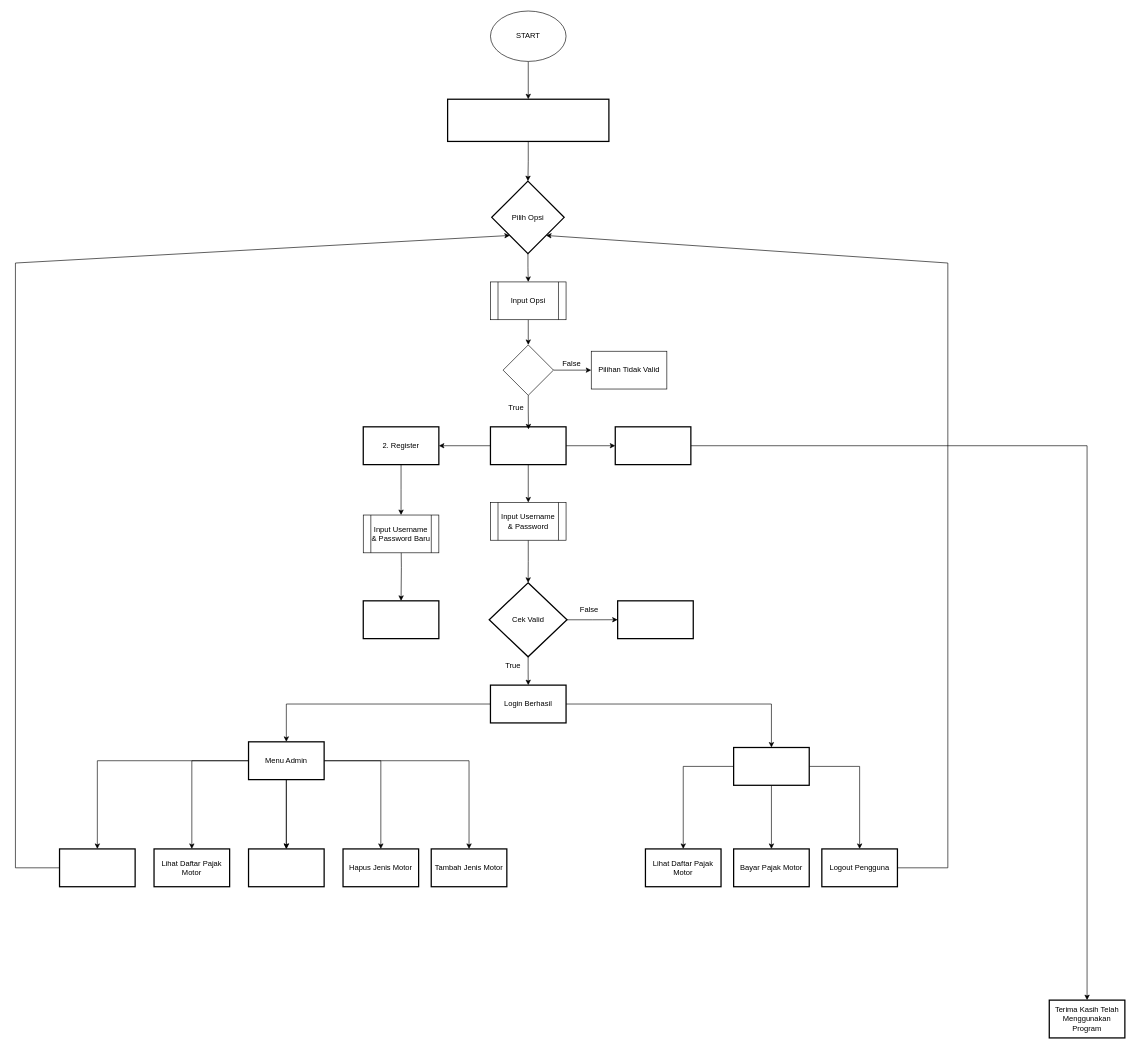
Some shapes in this 1137 by 1050 pixel diagram are drawn without their labels. Here are the shapes that lost their labels. From the top down, the centre of each, then its label:
At (x=528, y=120): "Program Pembayaran Pajak Bermotor".
At (x=527, y=369): "Pilih Opsi 1,2,3".
At (x=528, y=445): "1. Login".
At (x=652, y=445): "3. Logout".
At (x=400, y=619): "Register Berhasil".
At (x=655, y=619): "Login Gagal".
At (x=771, y=766): "Menu Pengguna".
At (x=97, y=867): "Logout Admin".
At (x=286, y=867): "Edit Pajak Motor".
